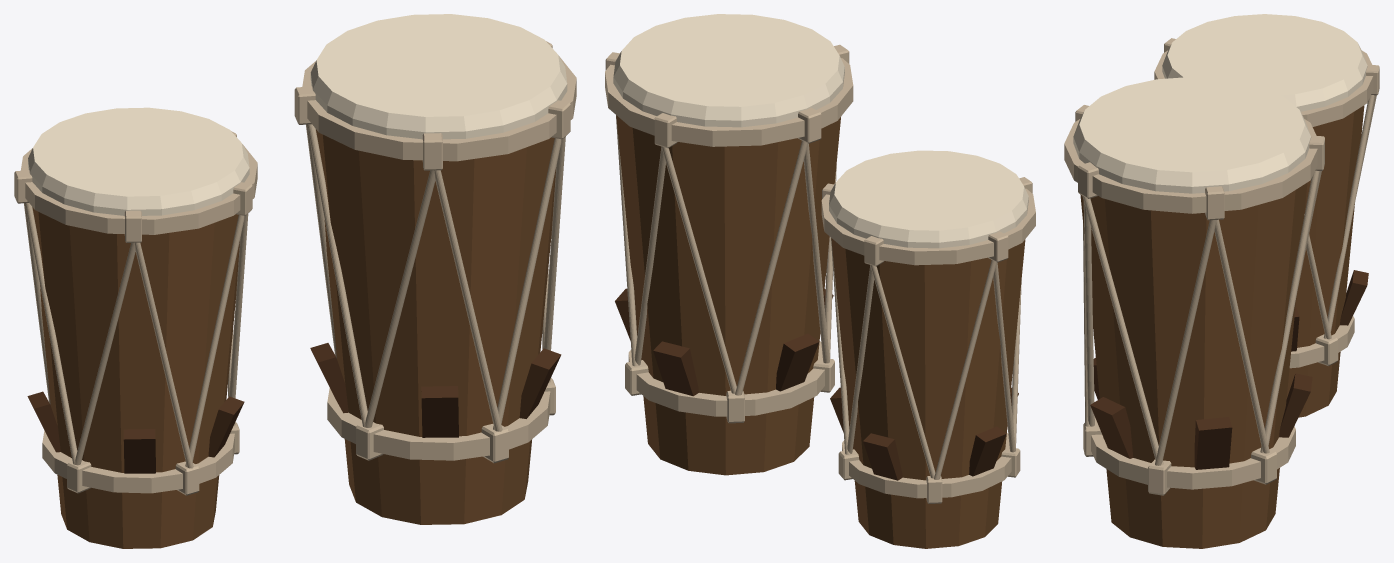
The model's file is cununo.glb.
The picture shows the model from 3 angles, left to right: view 1: azimuth 30°, elevation 25°; view 2: azimuth 150°, elevation 25°; view 3: azimuth 270°, elevation 25°; orthographic projection. The views are drawn at different scales.
Visible parts, largest first — view 1: tapa.001, tapa; view 2: tapa.001, tapa; view 3: tapa.001, tapa.
Boxes of the visible parts, x1,y1,x2,y2 form: tapa.001: (294,14,576,524); tapa: (14,107,257,548); tapa.001: (605,14,853,475); tapa: (821,150,1035,548); tapa.001: (1064,77,1324,548); tapa: (1154,14,1379,417).
Size of the model in its own units: 5.22 by 4.31 by 3.17.
